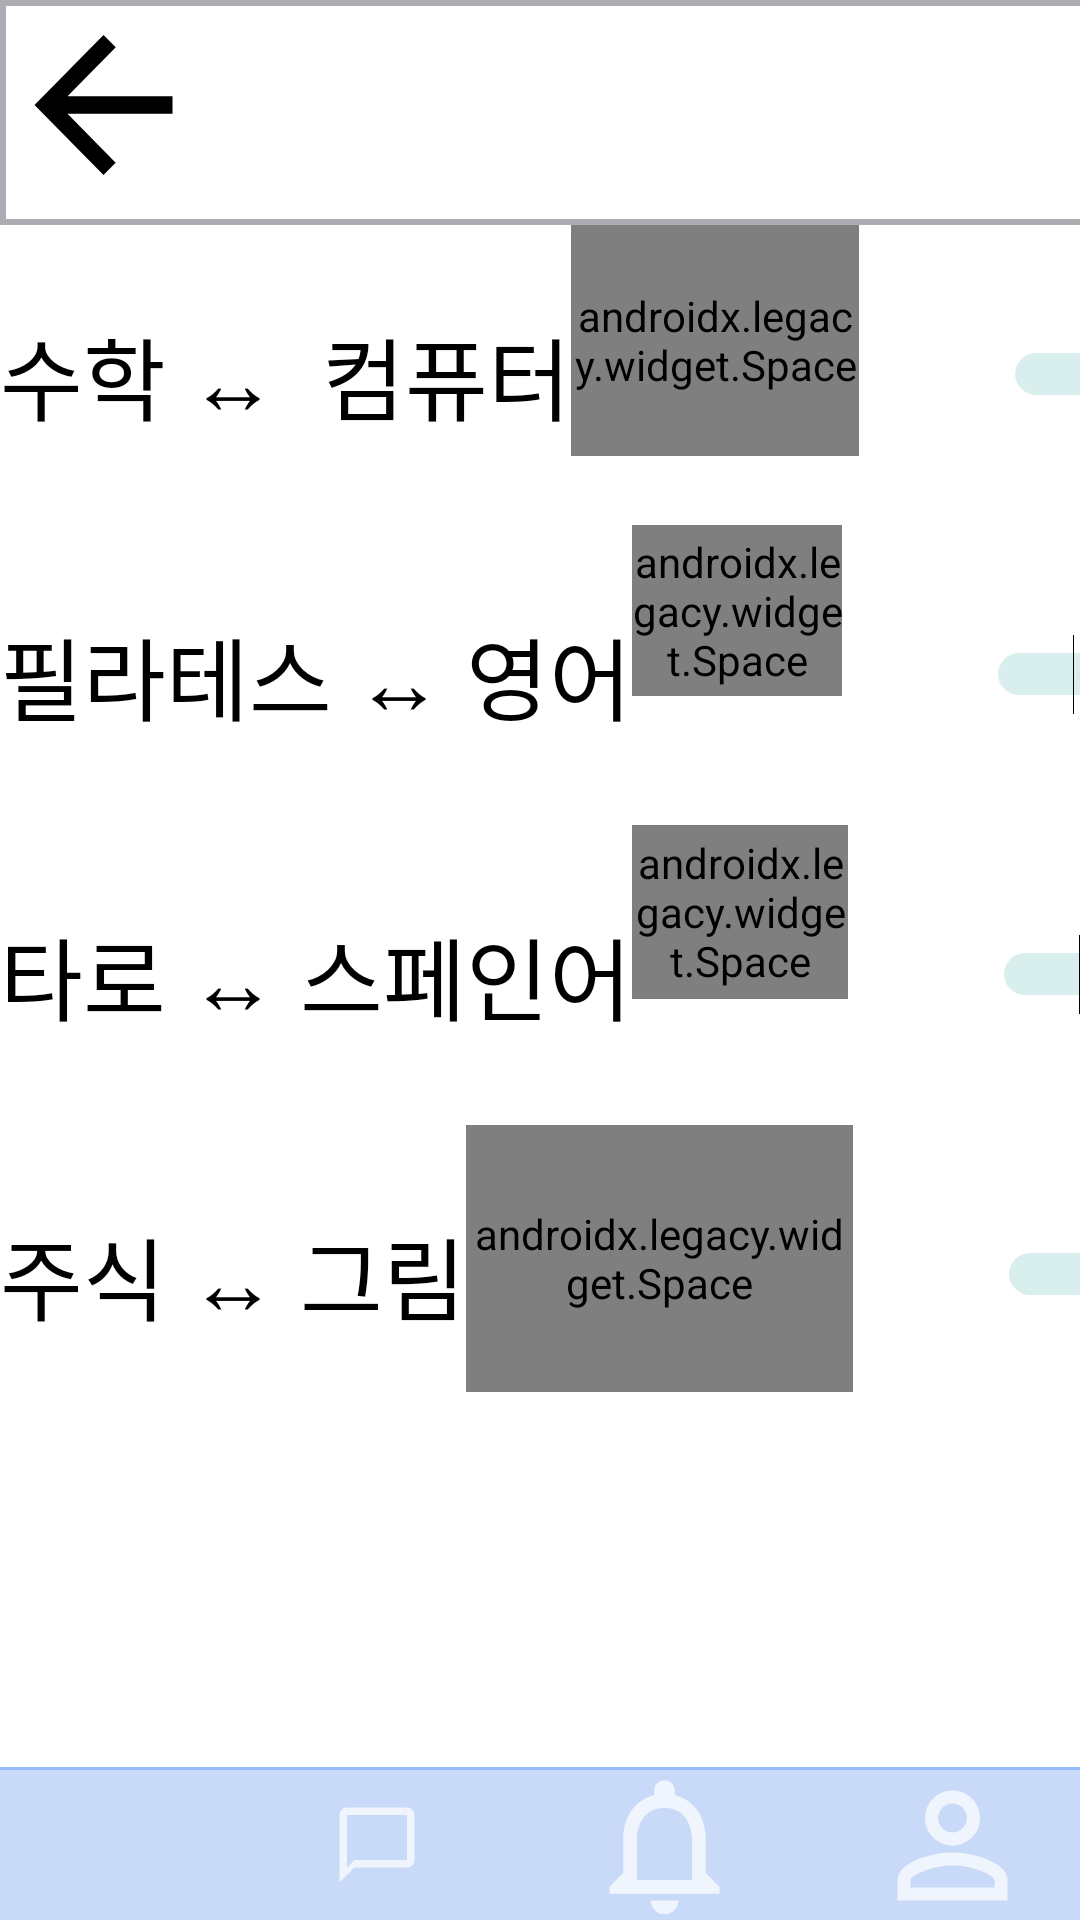

Icons on this 1080 × 1920 Android screen, each with its box as (x1, y1, x2, y2):
arrow back: (34, 35, 173, 175)
chat bubble: (340, 1808, 414, 1881)
notifications none: (610, 1780, 719, 1914)
person: (898, 1791, 1007, 1900)
